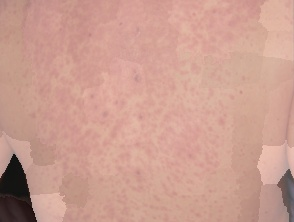SJS-TEN: (15, 0, 270, 186)
